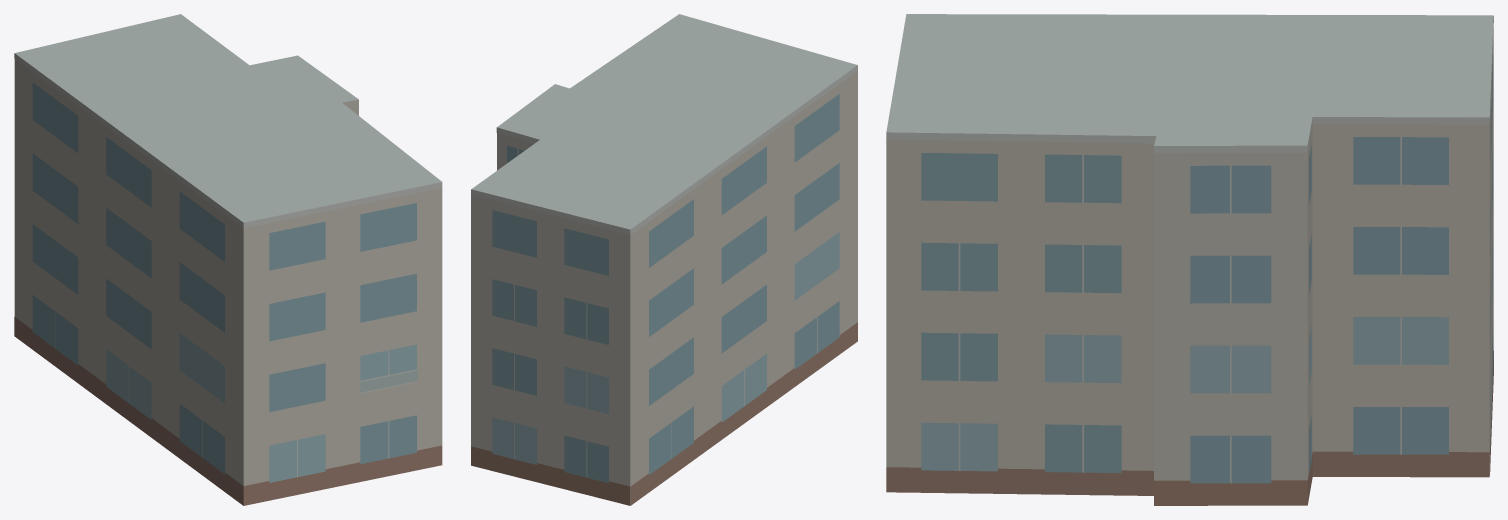
The model's file is survey-upis-32649055.glb.
The picture shows the model from 3 angles, left to right: view 1: azimuth 30°, elevation 25°; view 2: azimuth 150°, elevation 25°; view 3: azimuth 270°, elevation 25°; orthographic projection. The views are drawn at different scales.
Parts seen in each view (by area): view 1: survey-upis-32649055.tmp; view 2: survey-upis-32649055.tmp; view 3: survey-upis-32649055.tmp.
Boxes of the visible parts, x1=… form: survey-upis-32649055.tmp: x1=14, y1=14, x2=442, y2=505; survey-upis-32649055.tmp: x1=471, y1=14, x2=857, y2=505; survey-upis-32649055.tmp: x1=886, y1=14, x2=1493, y2=505.
Size of the model in its own units: 9.61 by 12.2 by 18.67.
